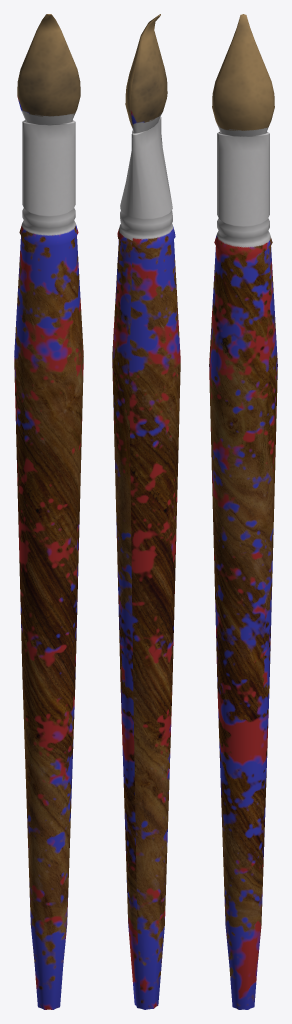
The picture shows the model from 3 angles, left to right: view 1: azimuth 90°, elevation 25°; view 2: azimuth 150°, elevation 25°; view 3: azimuth 270°, elevation 25°; orthographic projection.
Visible parts, largest first — view 1: Heropaintbrush_low; view 2: Heropaintbrush_low; view 3: Heropaintbrush_low.
Part boxes in pixels (box(x1,y1,x2,y2)): Heropaintbrush_low: box(14, 14, 83, 1009); Heropaintbrush_low: box(112, 14, 180, 1009); Heropaintbrush_low: box(209, 14, 277, 1009).
Bounding box in the file's own units: 0.00282 × 0.0445 × 0.00282.
1 material, 1 textured.
